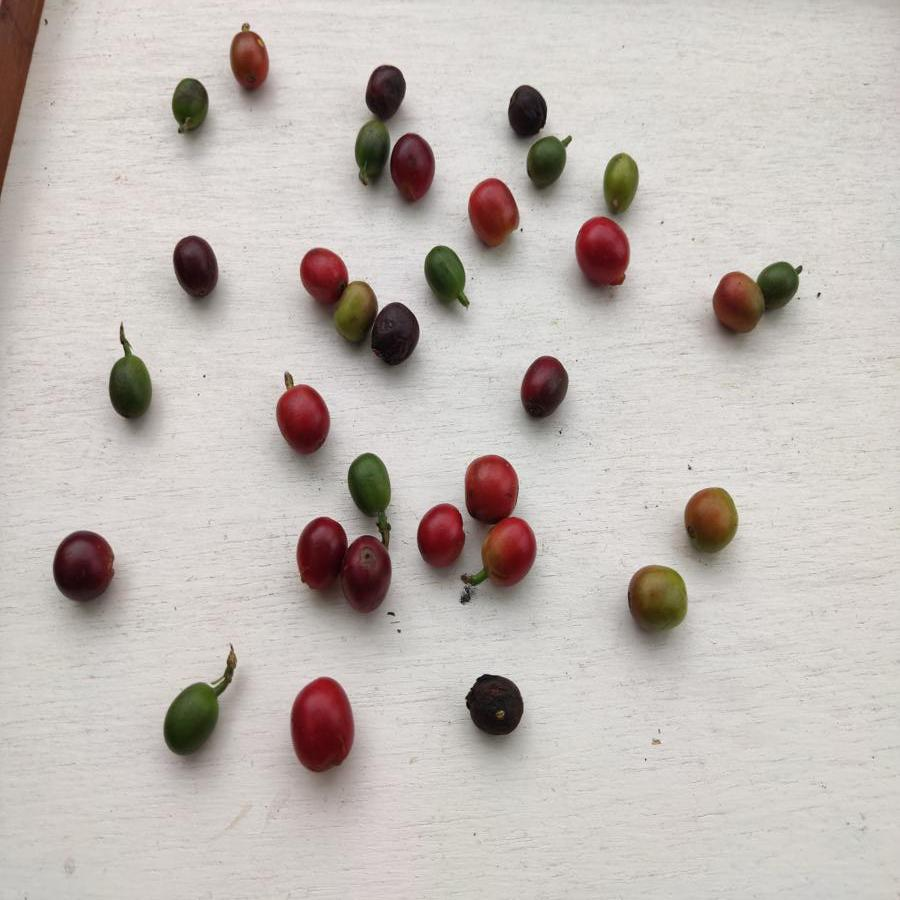Inmaduro: (158, 678, 226, 753), (344, 448, 396, 522), (107, 348, 156, 422), (420, 243, 469, 305), (169, 76, 211, 136), (347, 120, 390, 177), (523, 135, 568, 187), (762, 254, 802, 307)
Maduro: (287, 674, 354, 772), (574, 214, 633, 293), (274, 382, 333, 457), (465, 180, 525, 250), (481, 516, 537, 586), (463, 453, 519, 520), (412, 499, 465, 566), (296, 245, 350, 301)
Pinton: (625, 562, 690, 635), (685, 484, 743, 553), (709, 271, 765, 339), (224, 27, 275, 93), (336, 279, 377, 342), (602, 149, 642, 212)
Sobremaduro: (54, 531, 117, 604), (340, 534, 392, 615), (295, 512, 344, 595), (464, 672, 527, 736), (390, 129, 437, 205), (172, 234, 219, 302), (519, 354, 566, 418), (374, 301, 421, 363), (358, 61, 408, 119), (504, 84, 552, 134)
